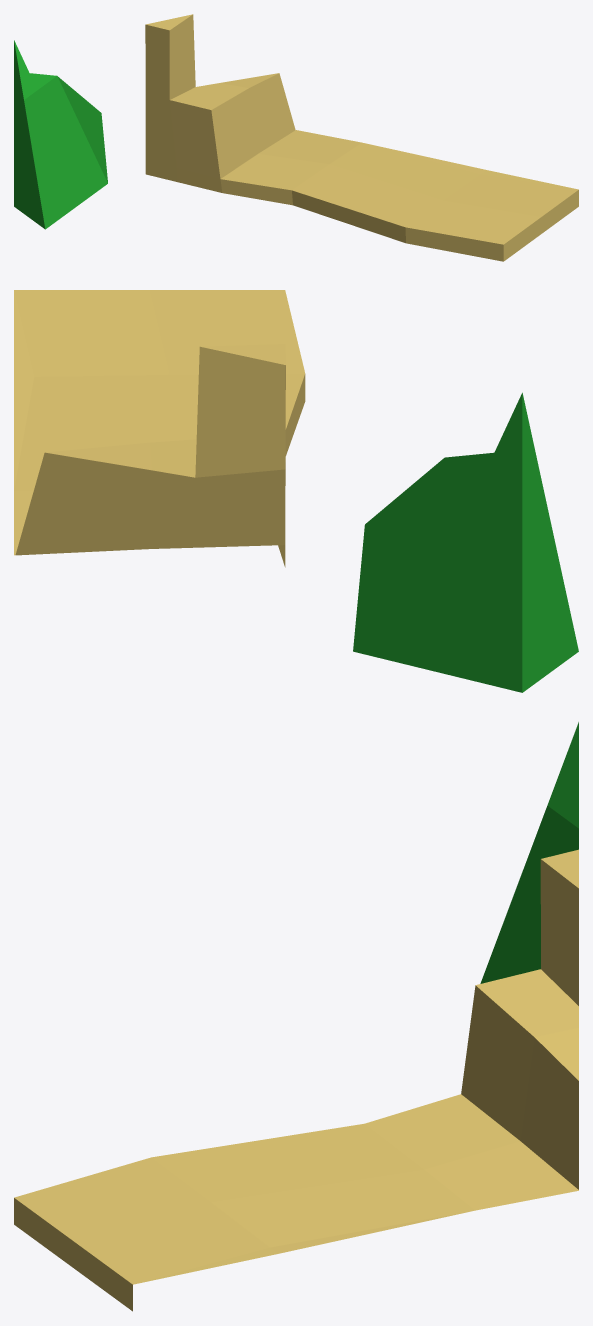
File: module-corner_land_cliff_small_stairs_003.glb
3 renders of one model, top to bottom at view 1: azimuth 30°, elevation 25°; view 2: azimuth 150°, elevation 25°; view 3: azimuth 270°, elevation 25°, orthographic. The views are drawn at different scales.
Visible parts, largest first — view 1: module-corner_land_cliff_small_stairs_003; view 2: module-corner_land_cliff_small_stairs_003; view 3: module-corner_land_cliff_small_stairs_003.
Part boxes in pixels (x1,y1,x2,y2): module-corner_land_cliff_small_stairs_003: (14,14,578,261); module-corner_land_cliff_small_stairs_003: (14,290,578,692); module-corner_land_cliff_small_stairs_003: (14,722,578,1311).
Size of the model in its own units: 0.6495 by 0.2447 by 0.475.
